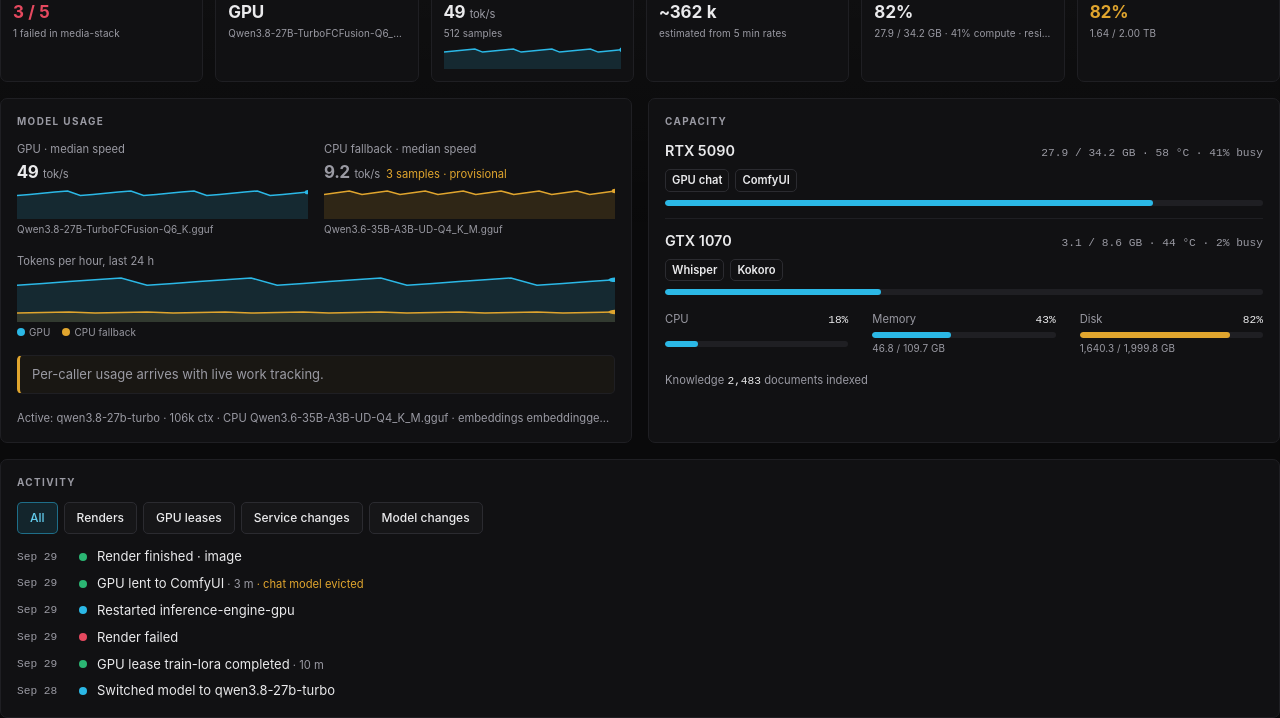
Scenario: the grouped activity feed › filters the feed by kind behind the chips
(page scrolled)
Check: the text "GPU lent to ComfyUI" is shown, box [97,575,224,591]
Click the button "Renders": (100, 518) [64,502,137,534]
(page scrolled)
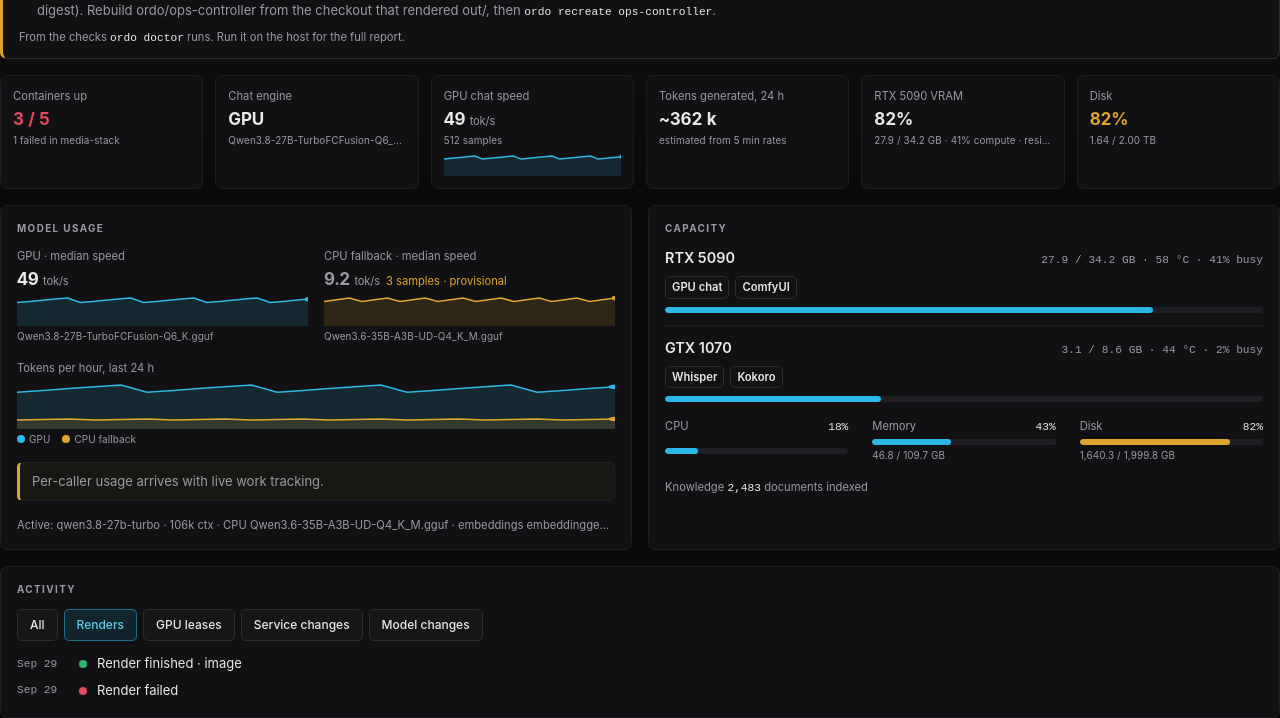
Check: the text "Render finished · image" is shown, box [97,655,242,671]
Check: the text "GPU lent to ComfyUI" is gone
Click the button "GPU leases": (189, 625) [143,609,235,641]
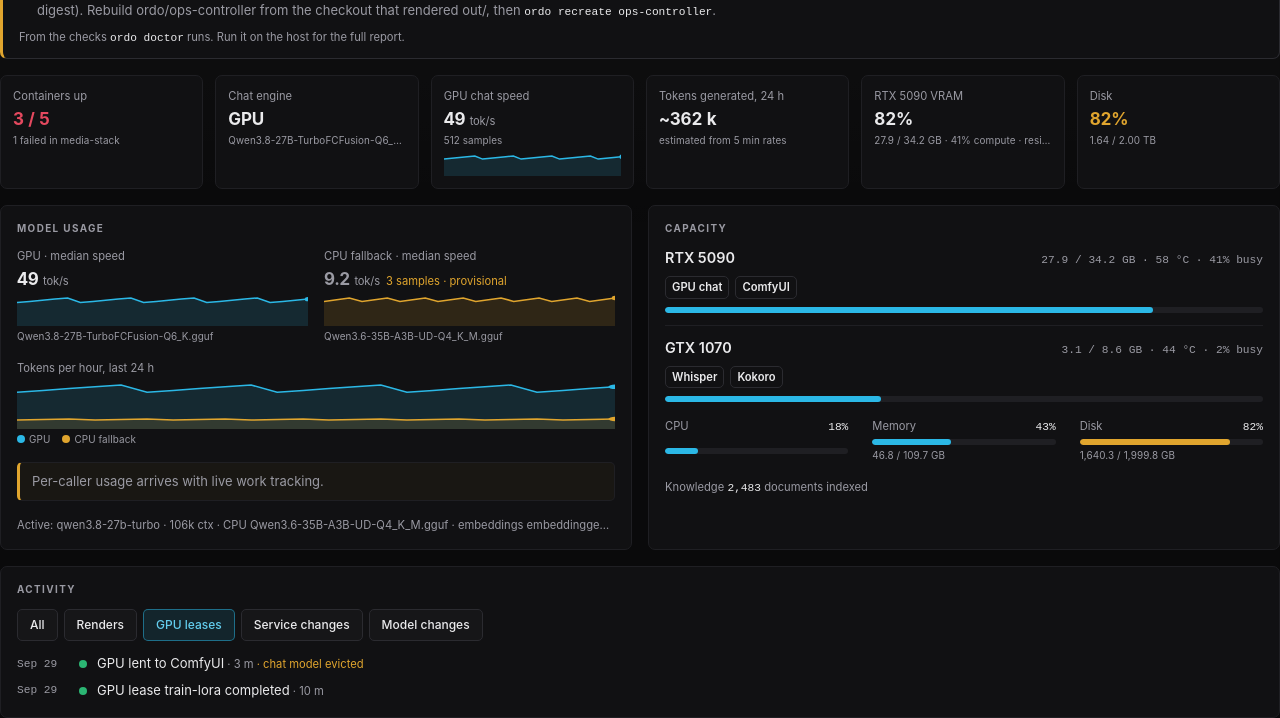
Check: the text "GPU lent to ComfyUI" is shown, box [97,655,224,671]
Check: the text "Render finished · image" is gone
Click the button "Service changes": (302, 625) [241,609,363,641]
(page scrolled)
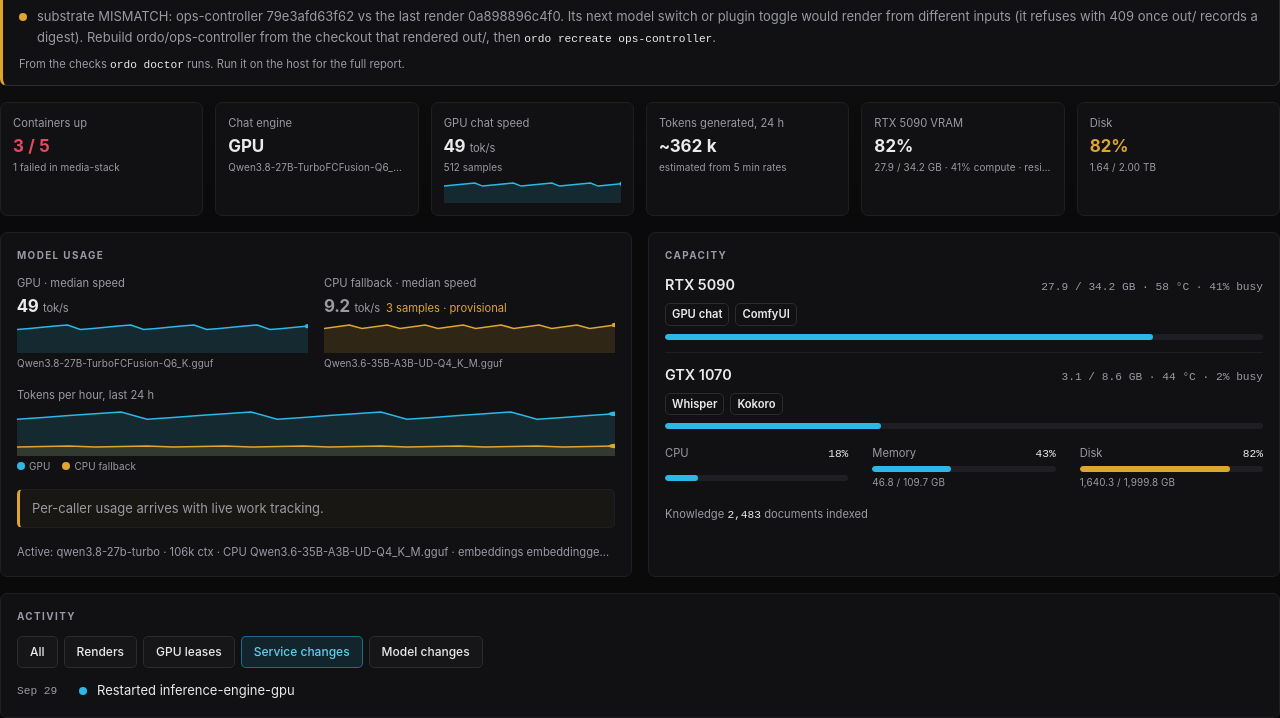
Check: the text "Switched model to qwen3.8-27b-turbo" is not shown
Check: the text "Restarted inference-engine-gpu" is shown, box [97,682,295,698]
Click the button "Model changes": (426, 652) [369,636,483,668]
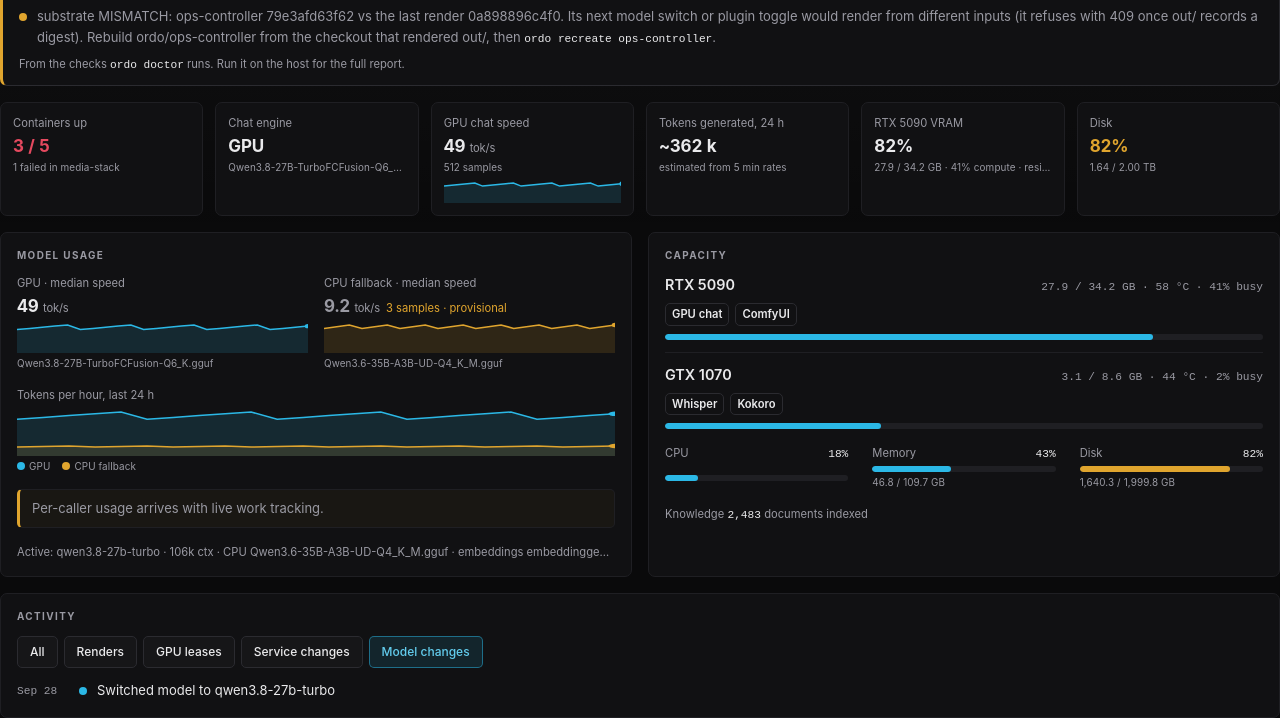
Check: the text "Switched model to qwen3.8-27b-turbo" is shown, box [97,682,335,698]
Check: the text "Restarted inference-engine-gpu" is gone
